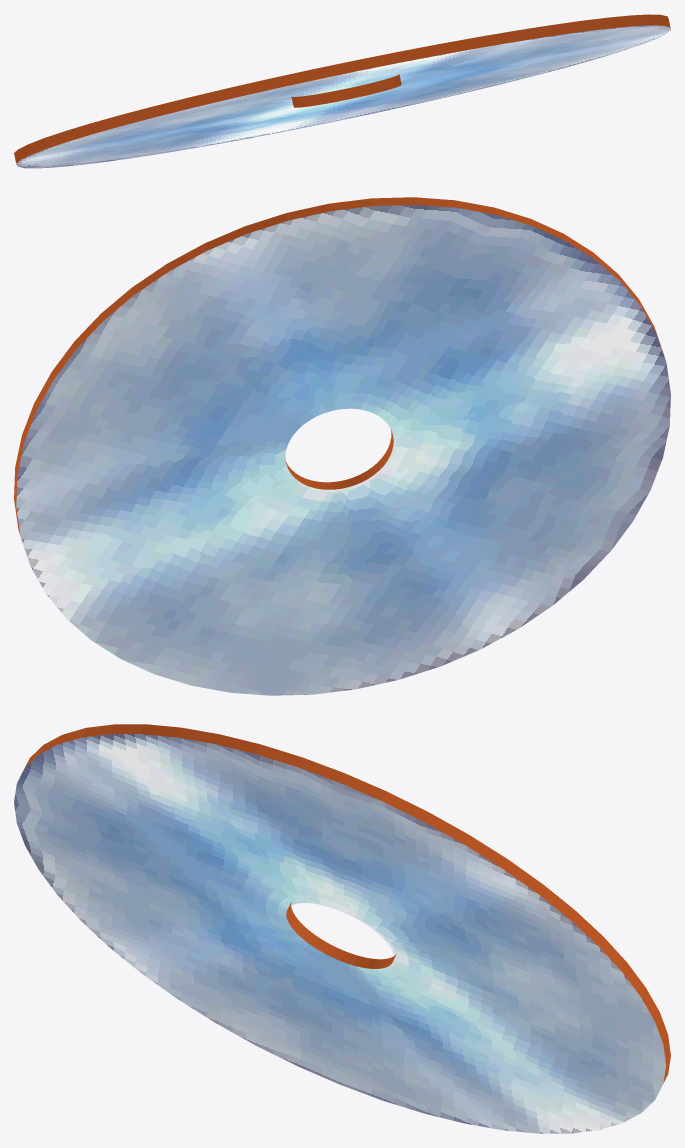
The model's file is ps2_save-icons_memorialsong.glb.
The picture shows the model from 3 angles, top to bottom: view 1: azimuth 30°, elevation 25°; view 2: azimuth 150°, elevation 25°; view 3: azimuth 270°, elevation 25°; orthographic projection. The views are drawn at different scales.
Parts seen in each view (by area): view 1: song.ico; view 2: song.ico; view 3: song.ico.
Boxes of the visible parts, x1,y1,x2,y2 form: song.ico: (14, 14, 670, 168); song.ico: (14, 197, 670, 695); song.ico: (14, 724, 670, 1133).
Size of the model in its own units: 3.87 by 1.63 by 3.56.
Materials: 1 (1 with a texture image).
